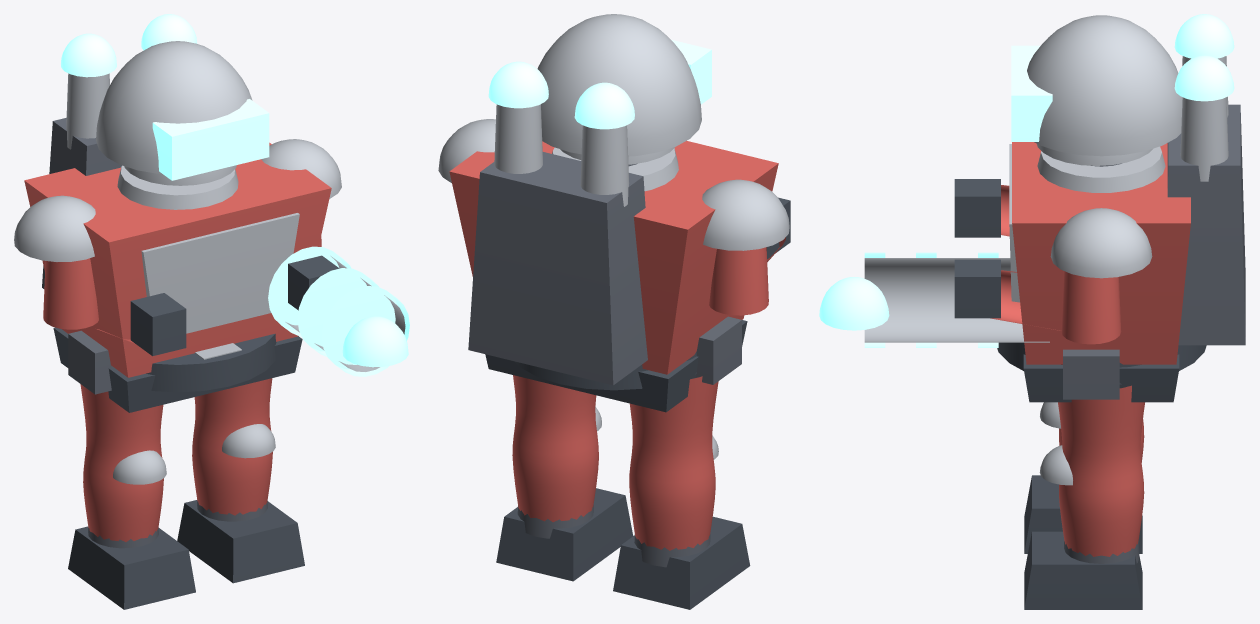
The model's file is shk.glb.
The picture shows the model from 3 angles, left to right: view 1: azimuth 30°, elevation 25°; view 2: azimuth 150°, elevation 25°; view 3: azimuth 270°, elevation 25°; orthographic projection. The views are drawn at different scales.
Visible parts, largest first — view 1: Hull; view 2: Hull; view 3: Hull.
Part boxes in pixels (<box>): Hull: <box>14,14,409,609</box>; Hull: <box>438,14,790,609</box>; Hull: <box>819,14,1245,609</box>.
Bounding box in the file's own units: 0.7086 × 1.1 × 0.7866.
